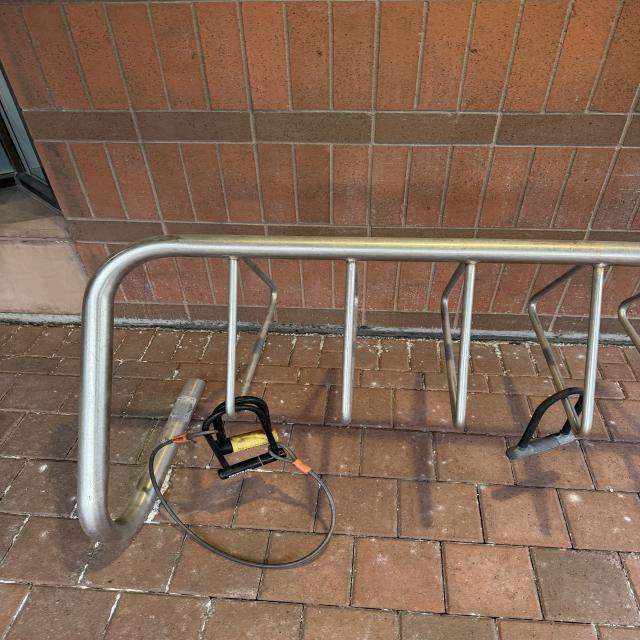Bicycle Rack: (73, 235, 640, 546)
